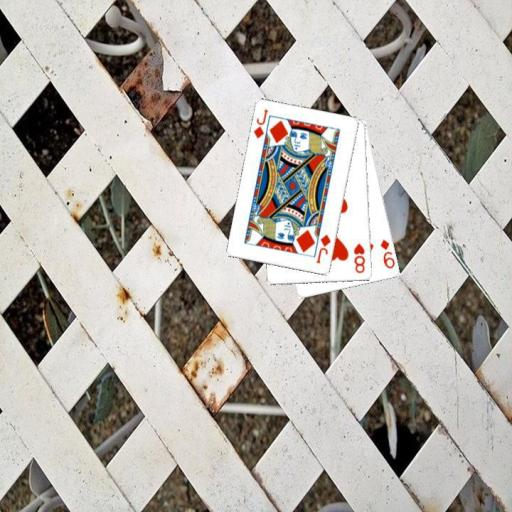8H: (351, 241, 367, 275)
9D: (378, 236, 396, 270)
JD: (313, 231, 333, 265), (251, 107, 270, 140)
